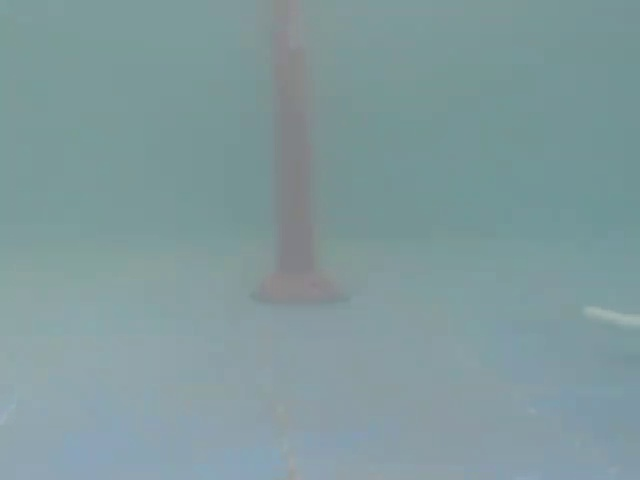flare: (247, 0, 339, 312)
